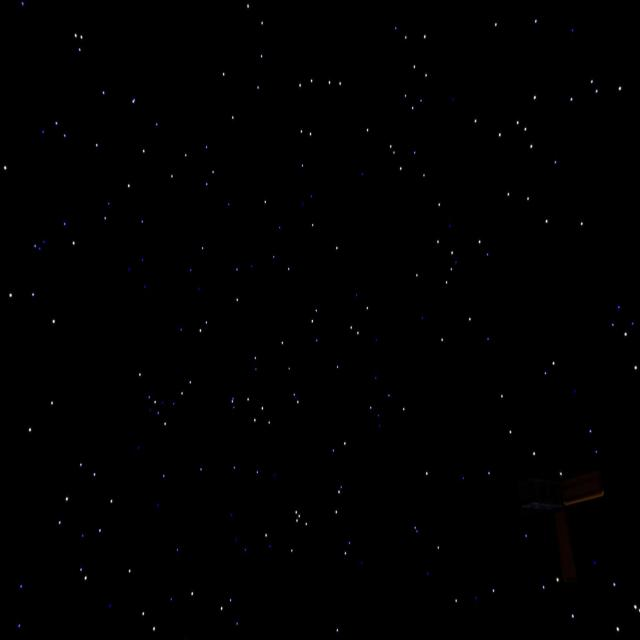medium_debris: (516, 458, 618, 589)
